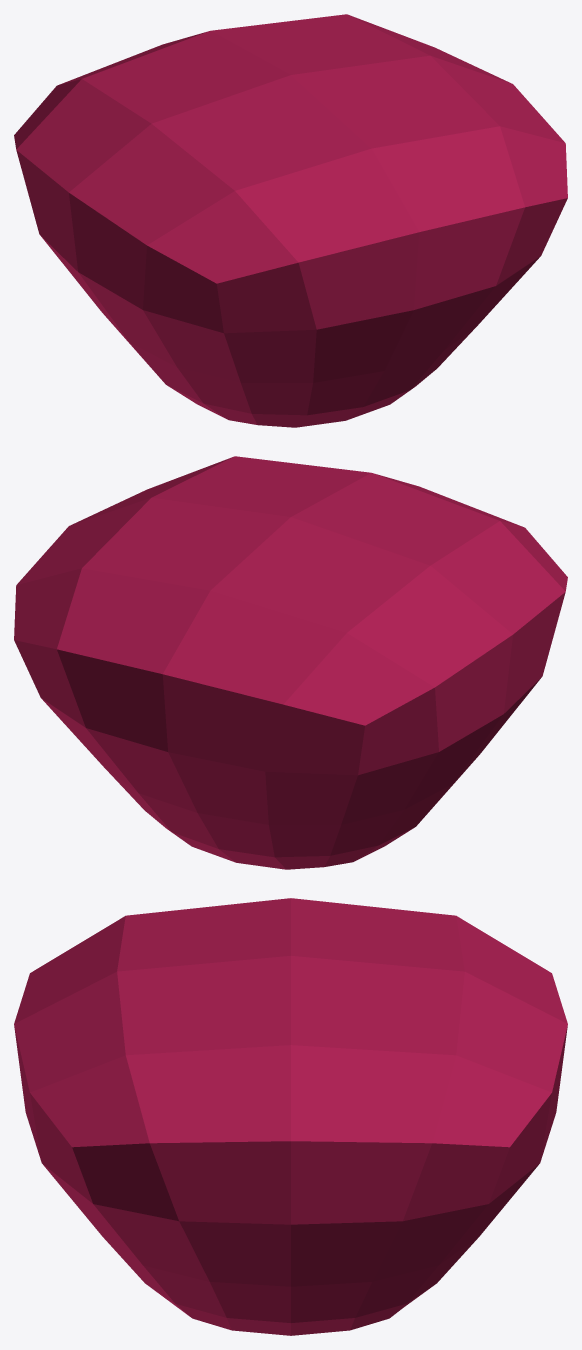
File: gem.glb
3 renders of one model, top to bottom at view 1: azimuth 30°, elevation 25°; view 2: azimuth 150°, elevation 25°; view 3: azimuth 270°, elevation 25°, orthographic. The views are drawn at different scales.
Parts seen in each view (by area): view 1: Cube; view 2: Cube; view 3: Cube.
Boxes of the visible parts, x1=… form: Cube: x1=14, y1=14, x2=567, y2=427; Cube: x1=14, y1=456, x2=567, y2=869; Cube: x1=14, y1=898, x2=567, y2=1335.
Size of the model in its own units: 1.04 by 0.726 by 1.04.
